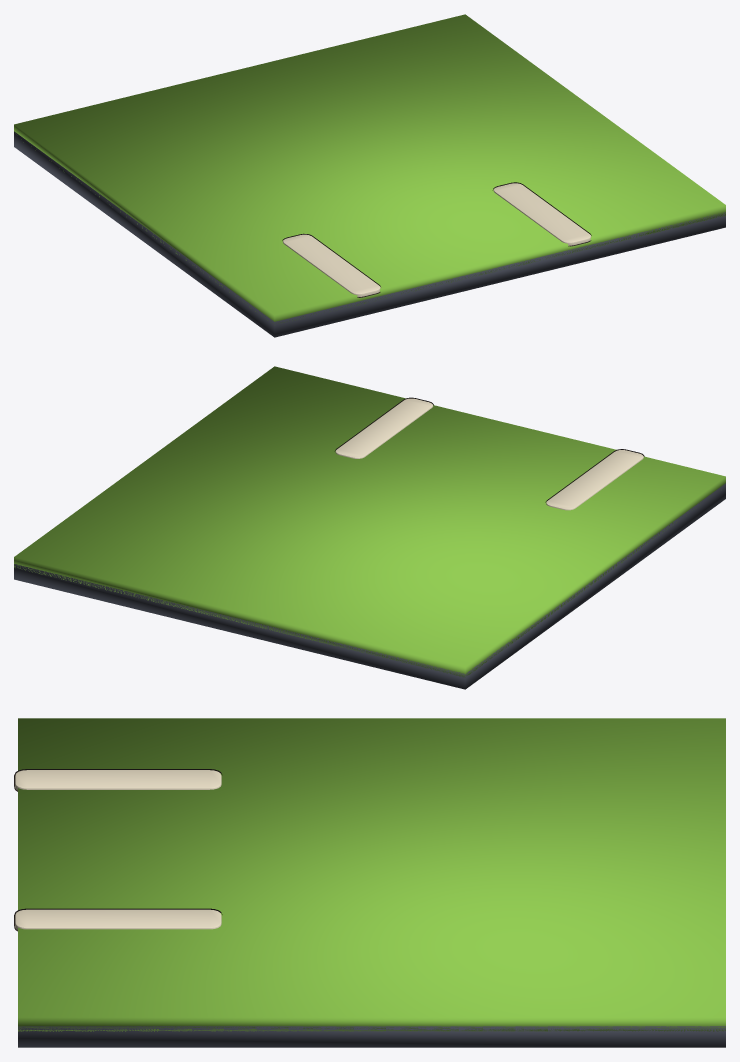
The model's file is Lot_Houses_A.fbx.
3 renders of one model, top to bottom at view 1: azimuth 30°, elevation 25°; view 2: azimuth 150°, elevation 25°; view 3: azimuth 270°, elevation 25°, orthographic. The views are drawn at different scales.
Visible parts, largest first — view 1: Tile_Lot_Houses_A_Grass, Tile_Lot_Houses_A_Asphalt, Tile_Lot_Houses_A_Sidewalk; view 2: Tile_Lot_Houses_A_Grass, Tile_Lot_Houses_A_Asphalt, Tile_Lot_Houses_A_Sidewalk; view 3: Tile_Lot_Houses_A_Grass, Tile_Lot_Houses_A_Asphalt, Tile_Lot_Houses_A_Sidewalk, Tile_Lot_Houses_A_Outline.
Part boxes in pixels (bbox=[...]): Tile_Lot_Houses_A_Grass: bbox=[14, 14, 725, 322]; Tile_Lot_Houses_A_Asphalt: bbox=[14, 131, 725, 337]; Tile_Lot_Houses_A_Sidewalk: bbox=[283, 183, 591, 296]; Tile_Lot_Houses_A_Grass: bbox=[14, 366, 725, 677]; Tile_Lot_Houses_A_Asphalt: bbox=[14, 483, 725, 689]; Tile_Lot_Houses_A_Sidewalk: bbox=[335, 398, 643, 510]; Tile_Lot_Houses_A_Grass: bbox=[18, 718, 725, 1031]; Tile_Lot_Houses_A_Asphalt: bbox=[18, 1026, 725, 1047]; Tile_Lot_Houses_A_Sidewalk: bbox=[15, 770, 221, 929]; Tile_Lot_Houses_A_Outline: bbox=[14, 769, 222, 931].
Bounding box in the file's own units: 24 × 1.24 × 24.14.
